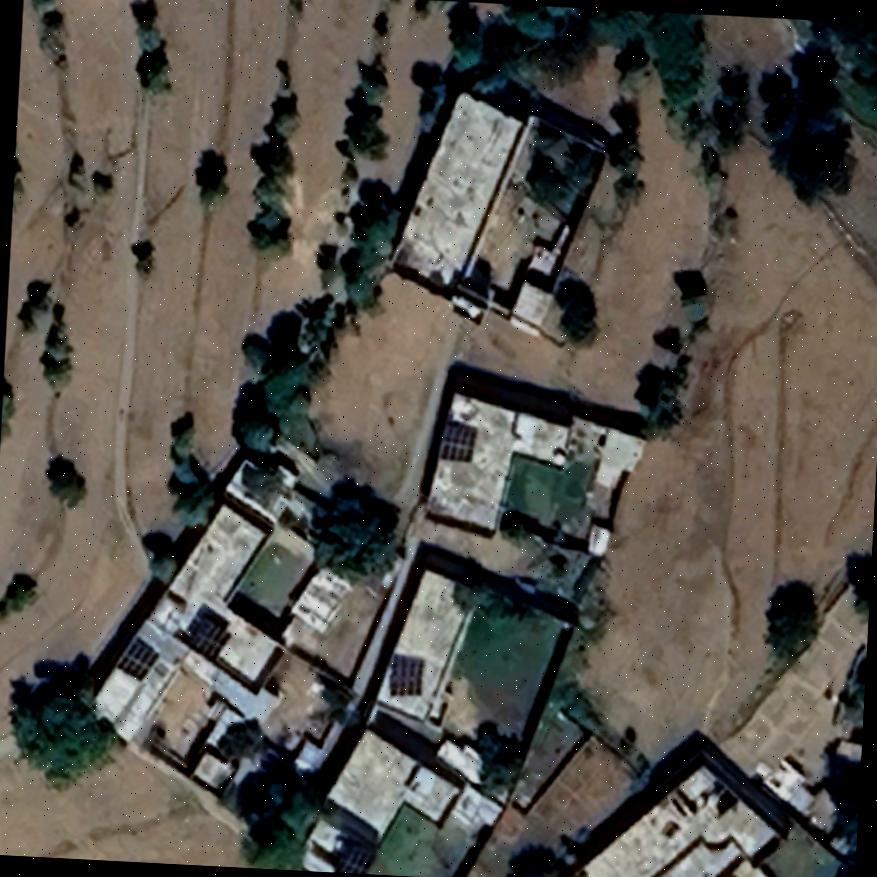Solarpanel: (183, 612, 230, 662), (113, 633, 160, 682), (435, 420, 477, 464), (386, 653, 423, 698), (329, 842, 375, 874)
